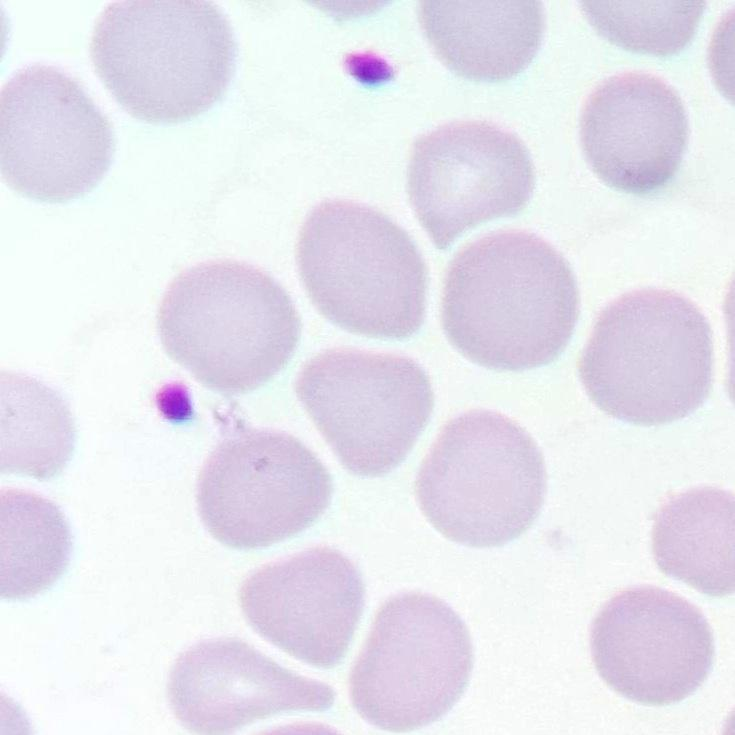Uninfected: (154, 256, 301, 394), (574, 285, 712, 425), (437, 232, 579, 368), (297, 197, 427, 341), (91, 0, 236, 129), (347, 589, 475, 730), (300, 349, 433, 478), (407, 117, 534, 250), (420, 409, 542, 547), (164, 637, 333, 735), (0, 60, 113, 204), (196, 432, 332, 546), (589, 583, 713, 705), (240, 543, 361, 668), (577, 67, 686, 194), (417, 0, 543, 82), (653, 483, 735, 601)
